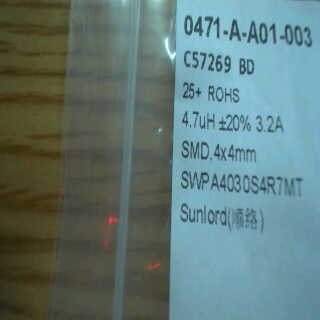4.7uH: (180, 110, 218, 133)
